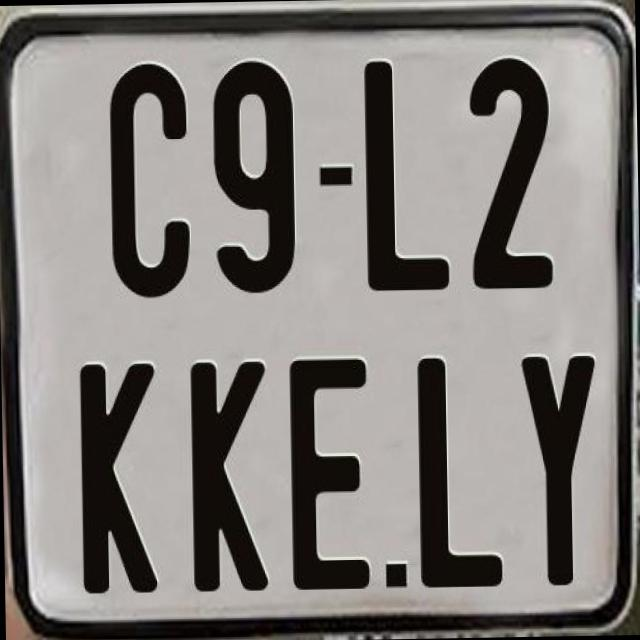2: (468, 52, 556, 288)
9: (210, 58, 298, 300)
C: (107, 60, 193, 295)
E: (288, 353, 372, 589)
K: (80, 362, 166, 600), (188, 358, 274, 588)
L: (359, 58, 453, 291), (415, 357, 507, 590)
Y: (520, 352, 606, 587)
